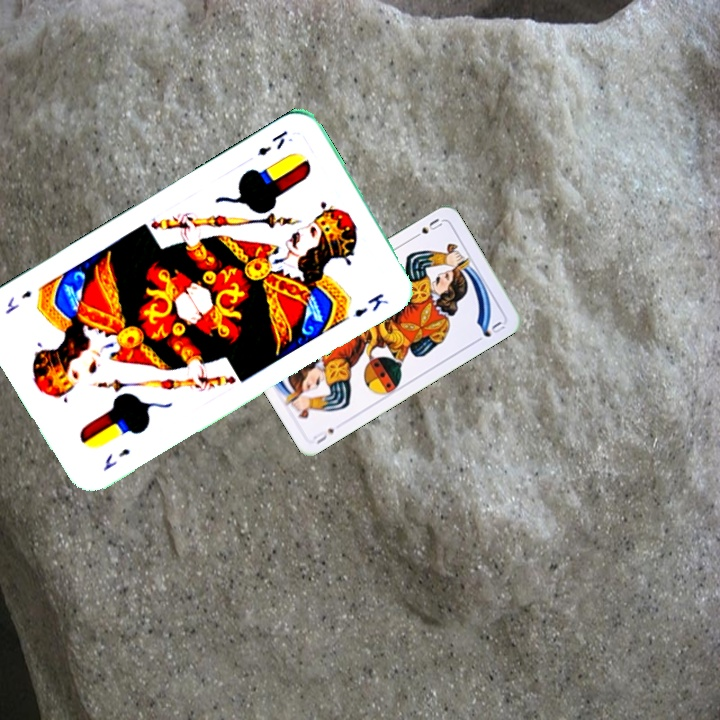EK: (253, 126, 290, 159), (99, 444, 133, 473)
SU: (408, 214, 445, 242), (310, 424, 337, 447)
